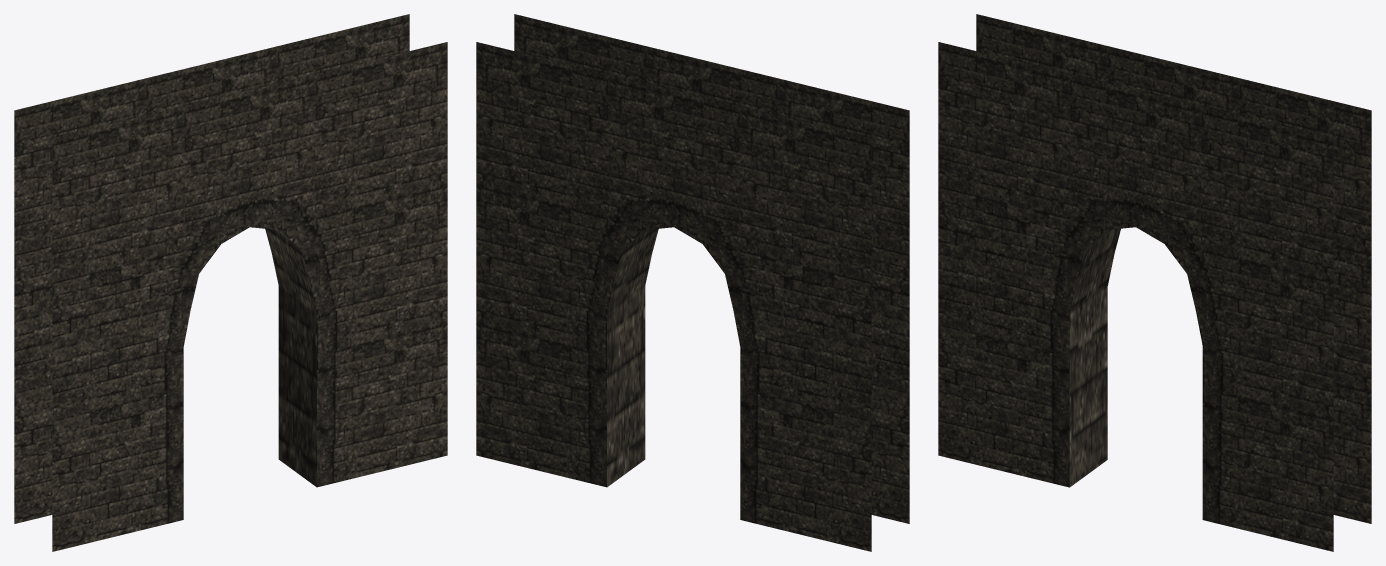
Rendered from SM_Dungeon_Doorframe.fbx.
3 views of the same model, side by side, from view 1: azimuth 30°, elevation 25°; view 2: azimuth 150°, elevation 25°; view 3: azimuth 330°, elevation 25° (orthographic).
Parts seen in each view (by area): view 1: SM_Dungeon_DoorFrame; view 2: SM_Dungeon_DoorFrame; view 3: SM_Dungeon_DoorFrame.
Part boxes in pixels (left/top/right/bottom): SM_Dungeon_DoorFrame: left=14, top=14, right=447, bottom=551; SM_Dungeon_DoorFrame: left=476, top=14, right=909, bottom=551; SM_Dungeon_DoorFrame: left=938, top=14, right=1371, bottom=551.
Bounding box in the file's own units: 300 × 300 × 50.
